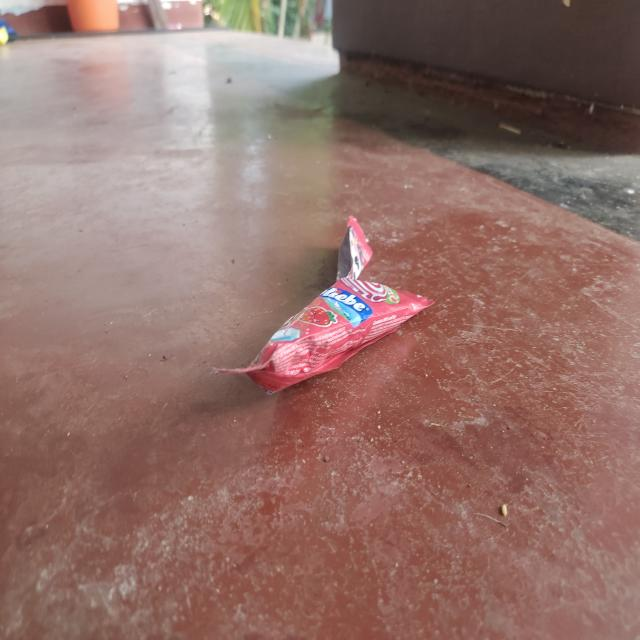plastic: (214, 215, 435, 394)
